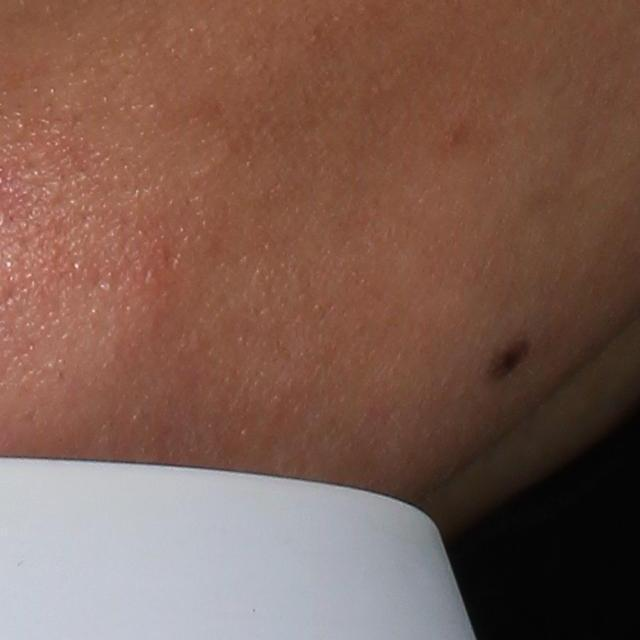nevus: (485, 338, 533, 382)
